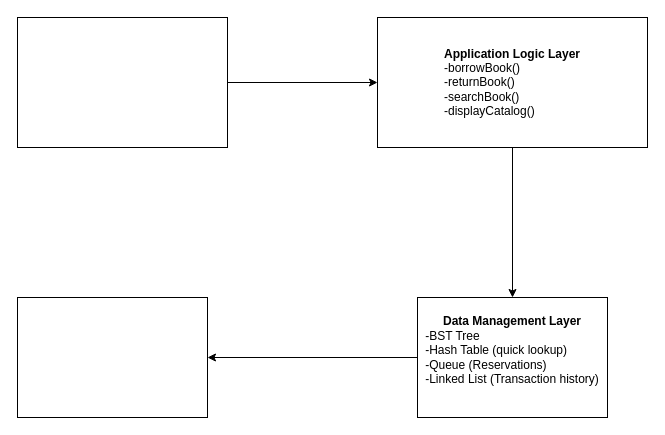
This 665x435 diagram has some shape labels left out. Each missing label, with the centre of its shape:
Output / Reporting Module (Displays confirmations, history, results): the point at 112,357
User Interface -Display menu -Input book/user details -View transactions: the point at 122,82
